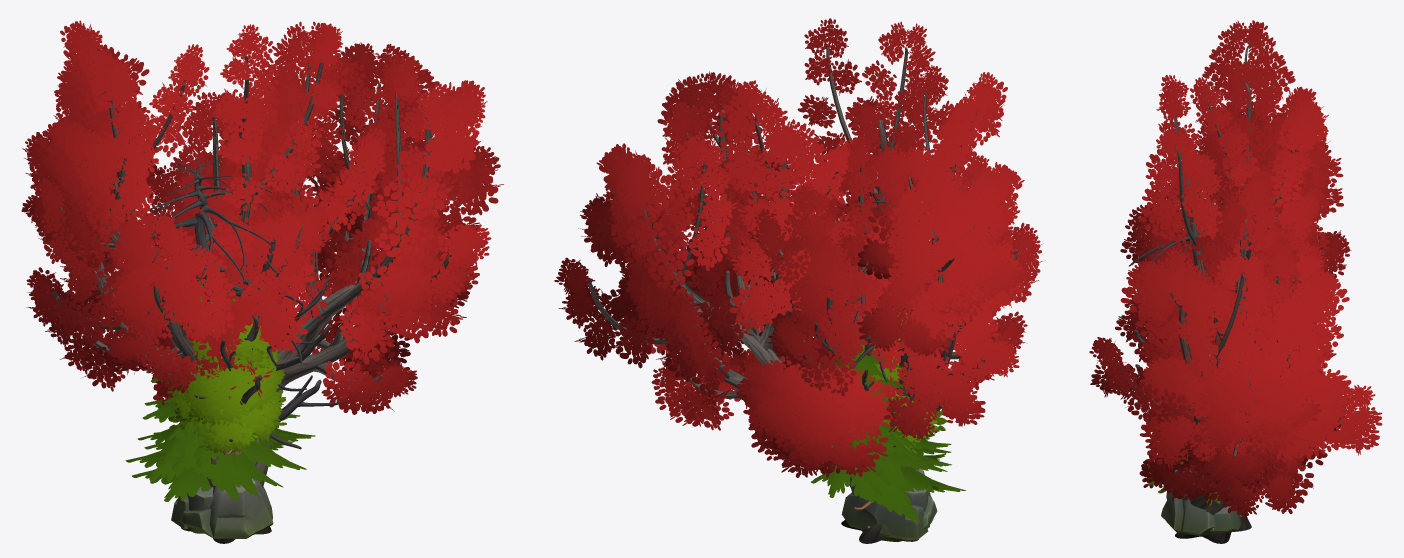
Rendered from nature-kit.glb.
3 renders of one model, left to right at view 1: azimuth 30°, elevation 25°; view 2: azimuth 150°, elevation 25°; view 3: azimuth 270°, elevation 25°, orthographic. The views are drawn at different scales.
Parts seen in each view (by area): view 1: TwistedTree_2, TwistedTree_1, Pine_5, CommonTree_3, Pine_2, Rock_Medium_1, CommonTree_1, DeadTree_3, CommonTree_2, DeadTree_1, Pine_1, Rock_Medium_2; view 2: TwistedTree_1, TwistedTree_2, Pine_5, Rock_Medium_2, Pine_2; view 3: TwistedTree_1, TwistedTree_2, Rock_Medium_1, Rock_Medium_2, DeadTree_3.
Boxes of the visible parts, <box> form: TwistedTree_2: <box>21,20,342,487</box>; TwistedTree_1: <box>152,21,503,543</box>; Pine_5: <box>125,344,315,496</box>; CommonTree_3: <box>179,279,285,429</box>; Pine_2: <box>132,355,294,501</box>; Rock_Medium_1: <box>180,478,273,538</box>; CommonTree_1: <box>168,346,287,453</box>; DeadTree_3: <box>105,158,303,363</box>; CommonTree_2: <box>171,335,285,455</box>; DeadTree_1: <box>146,277,340,449</box>; Pine_1: <box>144,351,275,478</box>; Rock_Medium_2: <box>171,486,213,533</box>; TwistedTree_1: <box>554,71,918,543</box>; TwistedTree_2: <box>754,18,1043,469</box>; Pine_5: <box>817,318,955,514</box>; Rock_Medium_2: <box>841,488,929,539</box>; Pine_2: <box>811,422,965,522</box>; TwistedTree_1: <box>1089,170,1382,543</box>; TwistedTree_2: <box>1120,20,1351,373</box>; Rock_Medium_1: <box>1161,491,1215,535</box>; Rock_Medium_2: <box>1210,506,1240,532</box>; DeadTree_3: <box>1129,187,1236,538</box>.
Size of the model in its own units: 17.96 by 19.08 by 11.55.
48 materials, 48 textured.
